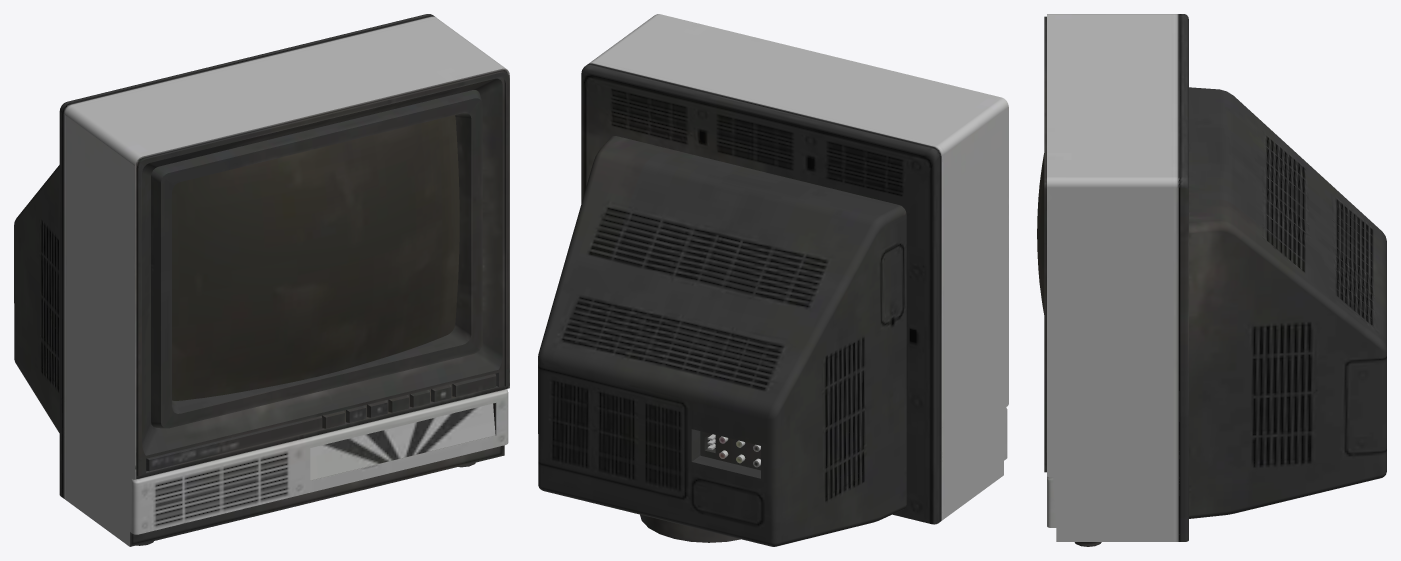
Rendered from television_02.glb.
The picture shows the model from 3 angles, left to right: view 1: azimuth 30°, elevation 25°; view 2: azimuth 150°, elevation 25°; view 3: azimuth 270°, elevation 25°; orthographic projection. The views are drawn at different scales.
Visible parts, largest first — view 1: television_02; view 2: television_02; view 3: television_02.
Boxes of the visible parts, left/top/right/bottom form: television_02: left=14, top=14, right=509, bottom=546; television_02: left=538, top=14, right=1008, bottom=546; television_02: left=1037, top=14, right=1386, bottom=546.
Size of the model in its own units: 0.3997 by 0.4114 by 0.3502.
Materials: 1 (1 with a texture image).
